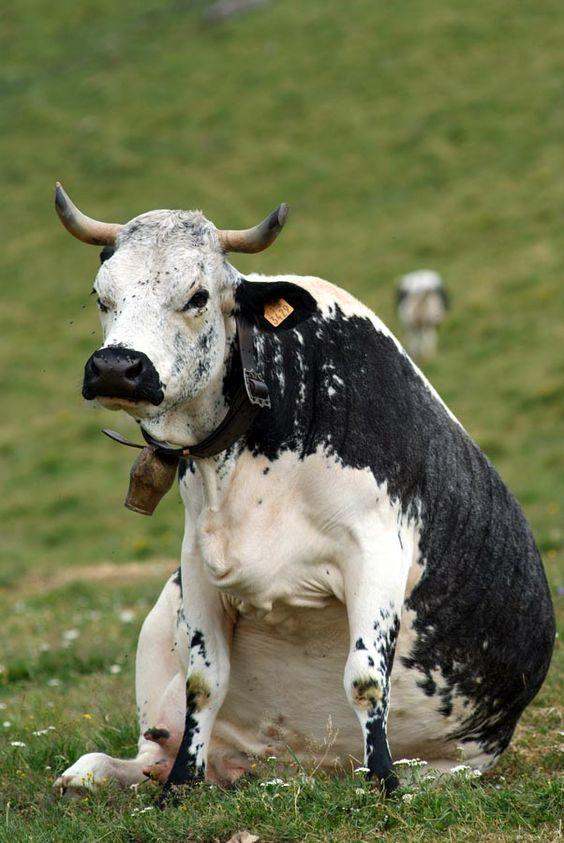cow: (38, 137, 555, 805)
